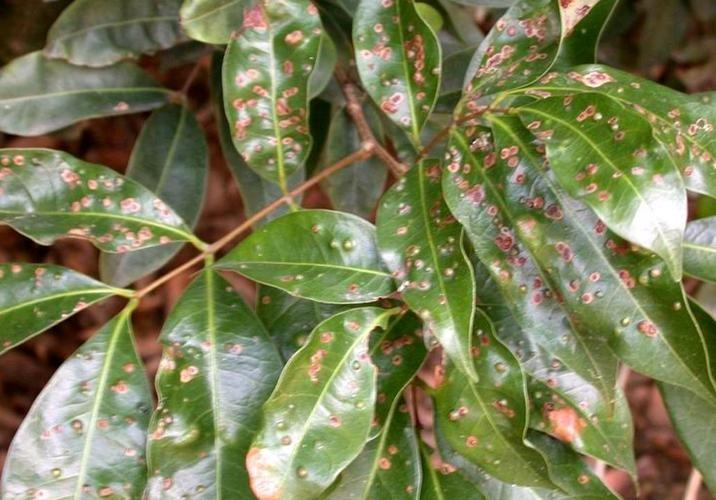Gall_Mite: (449, 30, 616, 222), (384, 223, 641, 344), (214, 231, 387, 409), (5, 357, 203, 479), (192, 11, 319, 174), (447, 362, 626, 457), (18, 130, 160, 246), (347, 11, 449, 162)
